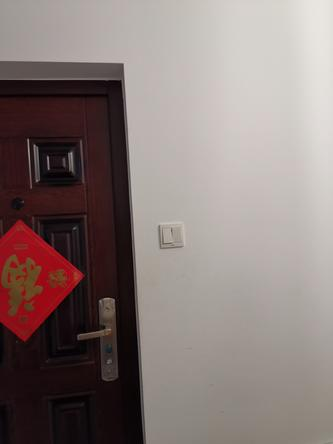switch: (171, 226, 184, 244), (161, 228, 172, 243)
